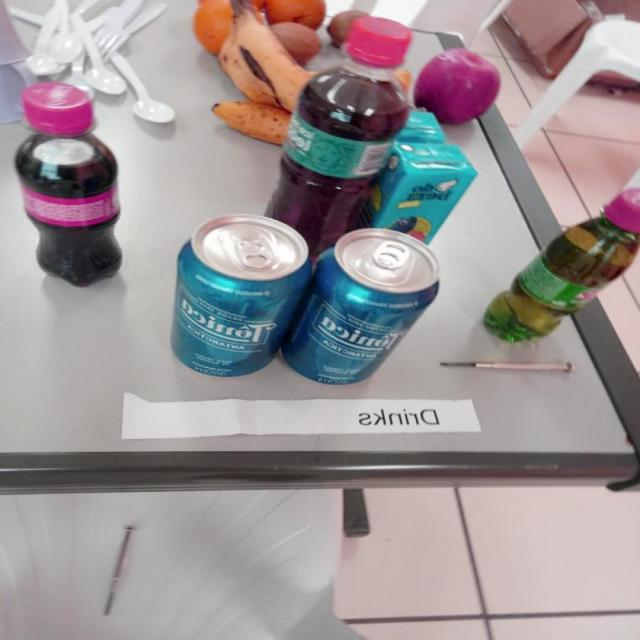Apple: (413, 48, 503, 126)
Banana: (219, 0, 317, 113), (212, 101, 292, 147)
CoconutWater: (371, 140, 478, 246)
Coke: (13, 81, 123, 289)
Guarana: (483, 186, 640, 343)
IceTea: (264, 17, 412, 256)
Kiwi: (264, 26, 326, 59)
Orange: (187, 0, 235, 54), (261, 0, 329, 26)
Tonic: (283, 229, 442, 387), (170, 215, 312, 379)
